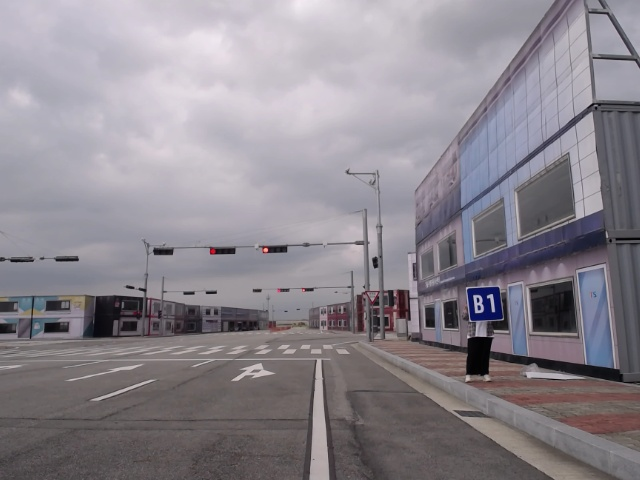delivery_b1: (466, 286, 504, 322)
red_4: (210, 247, 236, 255), (262, 246, 287, 253), (277, 288, 290, 292), (302, 288, 314, 292)
